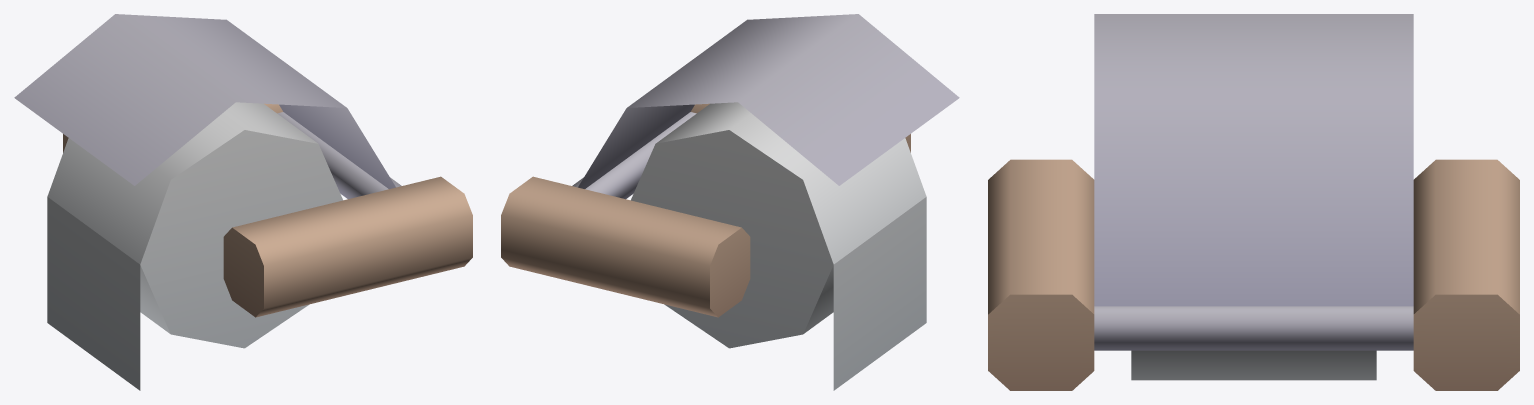
The model's file is toilet-paper-holder-cover (%wall).glb.
The picture shows the model from 3 angles, left to right: view 1: azimuth 30°, elevation 25°; view 2: azimuth 150°, elevation 25°; view 3: azimuth 270°, elevation 25°; orthographic projection. The views are drawn at different scales.
Visible parts, largest first — view 1: toilet-paper-holder-cover (%wall); view 2: toilet-paper-holder-cover (%wall); view 3: toilet-paper-holder-cover (%wall).
Part boxes in pixels (left/top/right/bottom): toilet-paper-holder-cover (%wall): left=14, top=14, right=472, bottom=390; toilet-paper-holder-cover (%wall): left=501, top=14, right=959, bottom=390; toilet-paper-holder-cover (%wall): left=988, top=14, right=1519, bottom=390.
Size of the model in its own units: 0.2049 by 0.1833 by 0.2394.
